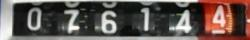digits: (210, 5, 228, 35), (174, 10, 193, 34), (100, 10, 118, 33), (63, 9, 80, 33), (26, 7, 42, 30), (140, 7, 149, 31)
